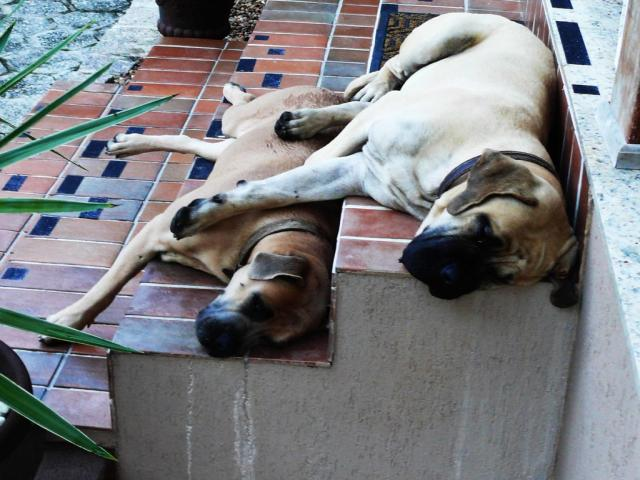Dog: (168, 9, 583, 306), (36, 80, 350, 358)
